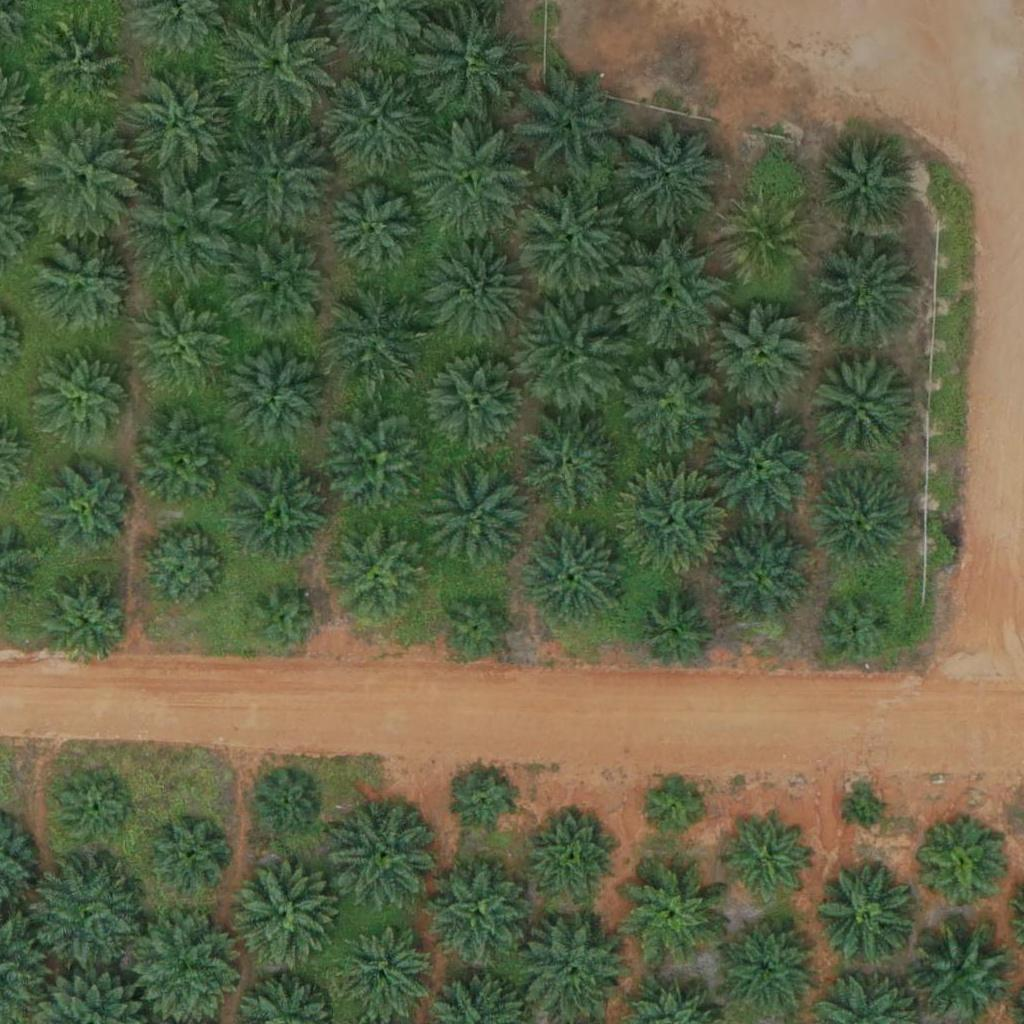Kelapa_Sawit: (617, 120, 730, 234), (615, 236, 728, 350), (515, 71, 628, 185), (704, 409, 817, 522), (220, 10, 333, 123), (219, 115, 332, 228), (122, 64, 235, 177), (515, 177, 627, 291), (418, 10, 530, 124), (617, 470, 729, 583), (812, 235, 924, 348), (512, 302, 624, 415), (415, 124, 527, 237), (319, 69, 431, 182), (128, 171, 240, 284), (26, 120, 138, 233), (28, 853, 140, 966), (814, 135, 914, 236), (711, 527, 811, 628), (520, 418, 620, 519), (524, 525, 624, 626), (426, 241, 526, 342), (427, 354, 527, 455), (427, 463, 527, 564), (326, 286, 426, 387), (328, 412, 428, 513), (328, 524, 428, 625), (234, 236, 334, 337), (228, 344, 328, 445), (229, 466, 329, 567), (135, 293, 235, 394), (134, 410, 234, 511), (33, 235, 133, 336), (32, 351, 132, 452), (235, 862, 335, 963), (337, 803, 437, 904), (428, 860, 528, 961), (523, 917, 623, 1018), (625, 864, 725, 965), (717, 916, 817, 1017), (809, 355, 909, 455), (814, 469, 914, 569), (715, 308, 815, 408), (621, 358, 721, 458), (35, 568, 135, 668), (817, 861, 917, 961), (912, 919, 1012, 1019), (36, 21, 124, 110), (720, 198, 808, 286), (140, 524, 228, 612), (722, 816, 810, 904), (328, 188, 415, 276), (45, 464, 132, 552), (534, 813, 621, 901), (921, 825, 1008, 913), (57, 774, 132, 850), (820, 591, 895, 667), (246, 583, 321, 659), (154, 818, 229, 893), (638, 597, 713, 672), (442, 591, 517, 666), (255, 772, 318, 835), (455, 770, 517, 833), (641, 771, 703, 834), (848, 791, 885, 829)
